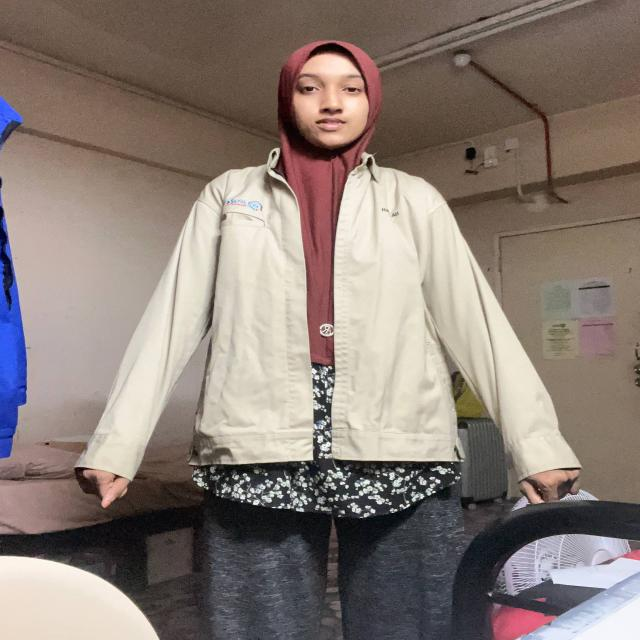person_with_labcoat: (76, 41, 580, 640)
